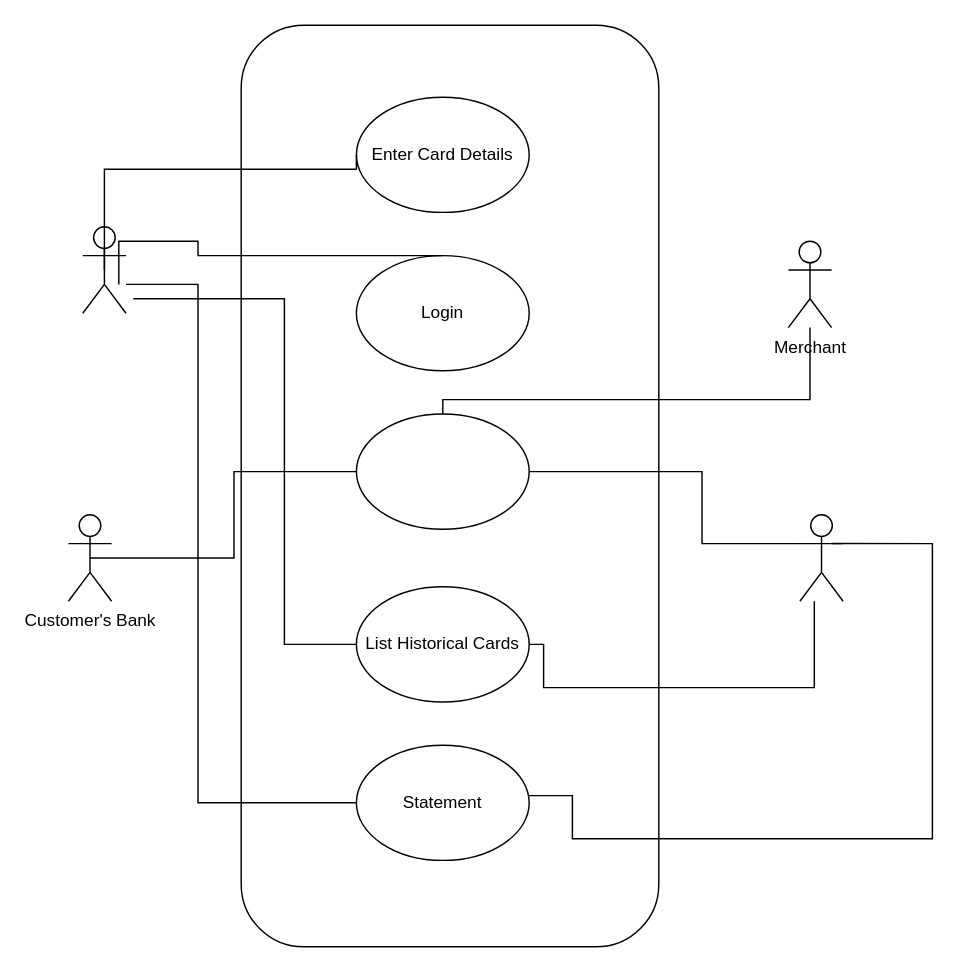
The diagram is 959 pixels wide and 972 high, and some of its shapes have lost their labels. Each missing label, with the centre of its shape:
"Confirm Payment" goes at (x=442, y=471).
"Customer" goes at (x=103, y=269).
"Payment Gateway" goes at (x=820, y=557).
